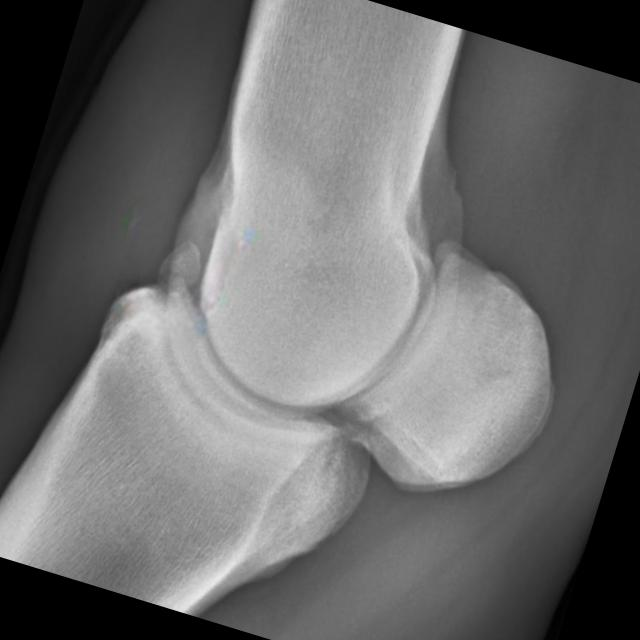bone remodeling: (43, 172, 246, 402)
